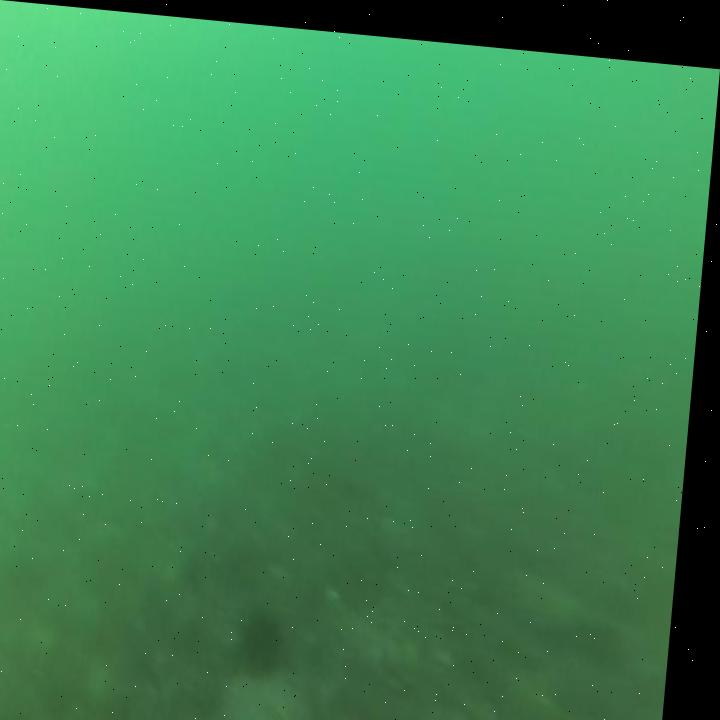echinus: (244, 594, 303, 682)
